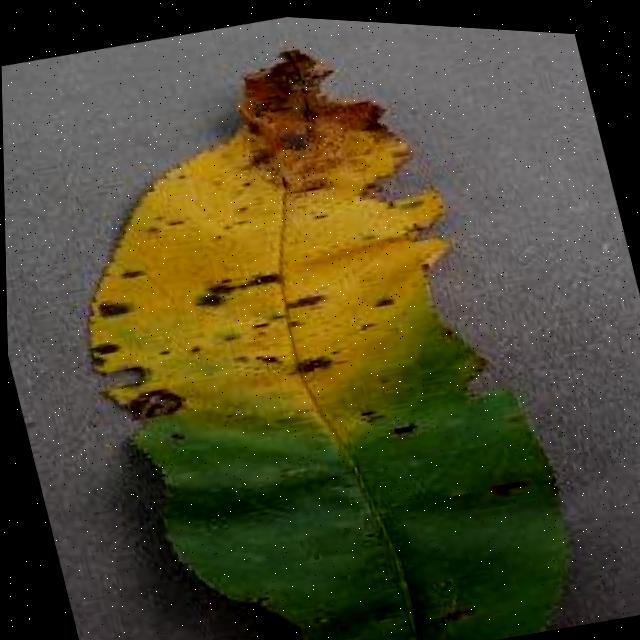Bacterial_spot: (13, 1, 535, 534)
